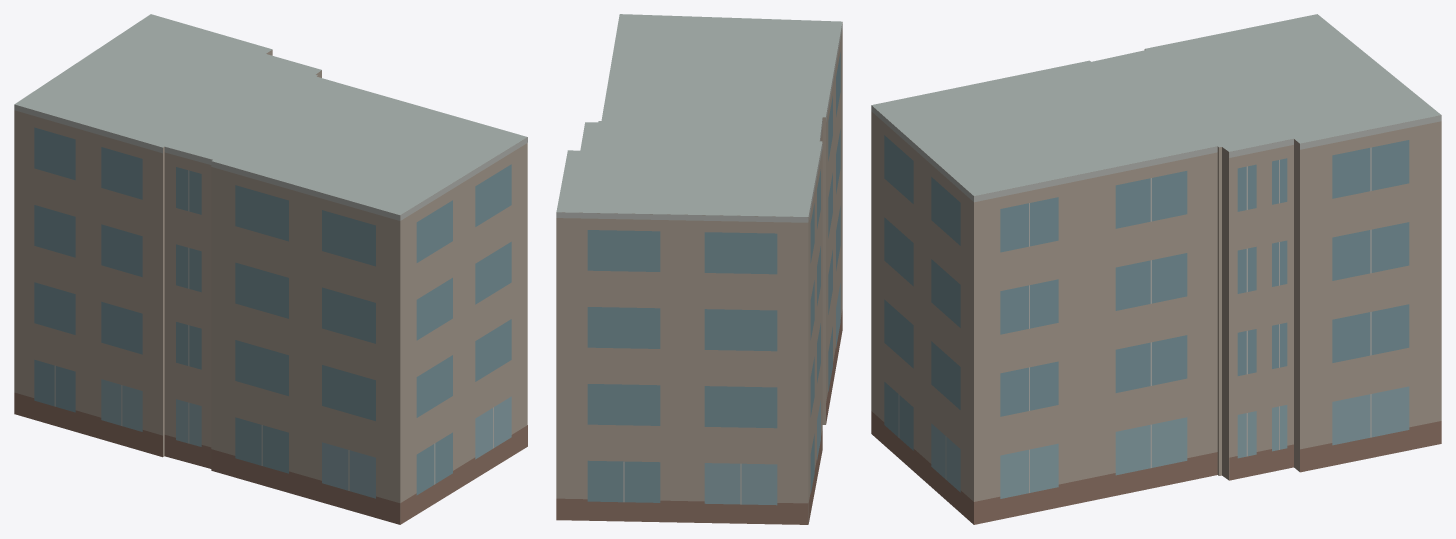
The model's file is survey-upis-32739764.glb.
3 views of the same model, side by side, from view 1: azimuth 30°, elevation 25°; view 2: azimuth 150°, elevation 25°; view 3: azimuth 270°, elevation 25° (orthographic). The views are drawn at different scales.
Parts seen in each view (by area): view 1: survey-upis-32739764.tmp; view 2: survey-upis-32739764.tmp; view 3: survey-upis-32739764.tmp.
Part boxes in pixels (x1,y1,x2,y2): survey-upis-32739764.tmp: (14,14,527,524); survey-upis-32739764.tmp: (556,14,842,524); survey-upis-32739764.tmp: (871,14,1441,524).
Size of the model in its own units: 15.58 by 13.1 by 20.61.
